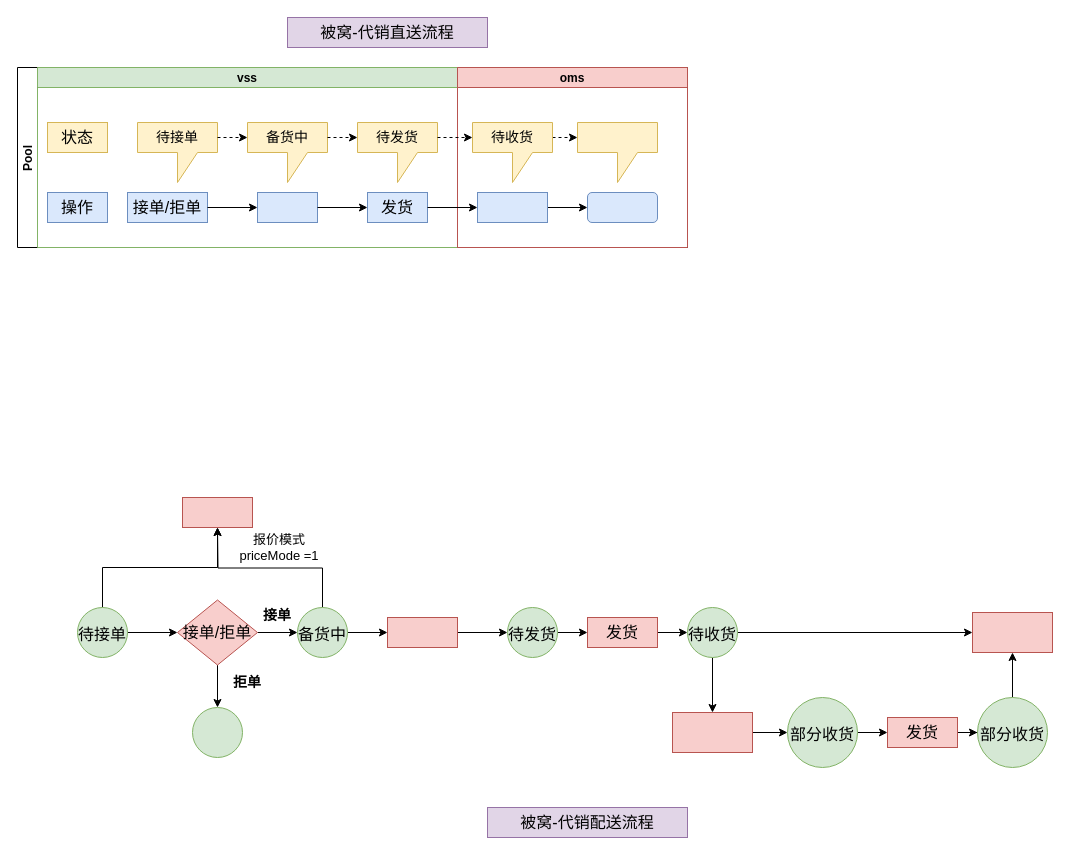
This 1070x855 diagram has some shape labels left out. Here are the shapes that lost their labels. From the top down, the centre of each, then its label:
At point (617, 152): "已完成".
At point (287, 207): "备货".
At point (512, 207): "oms签收".
At point (622, 207): "完成".
At point (217, 512): "补充报价".
At point (422, 632): "备货完成".
At point (1012, 632): "wms收货完成".
At point (217, 732): "已关闭".
At point (712, 732): "wms部分收货".
